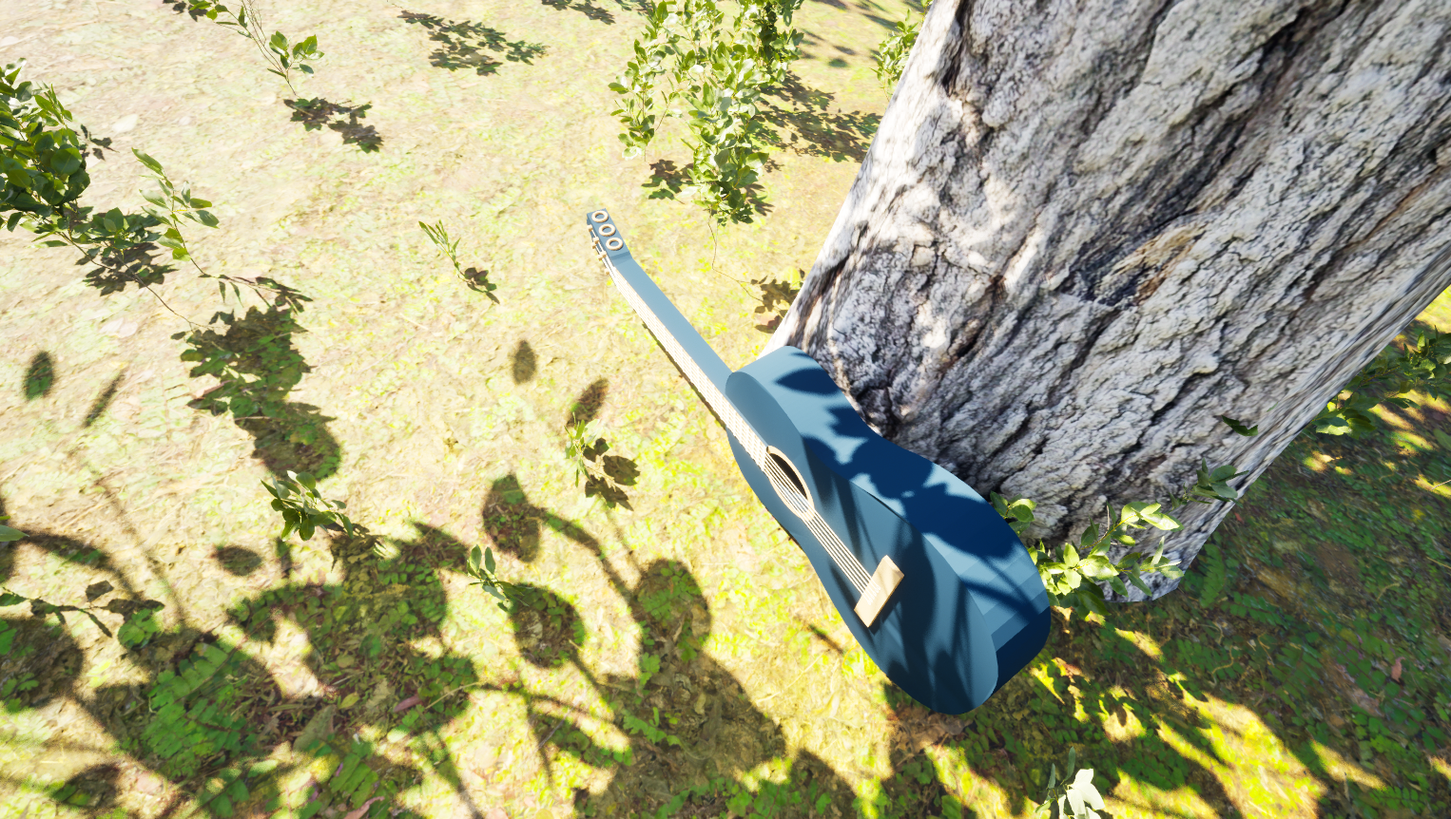Guitar: (551, 120, 1105, 737)
